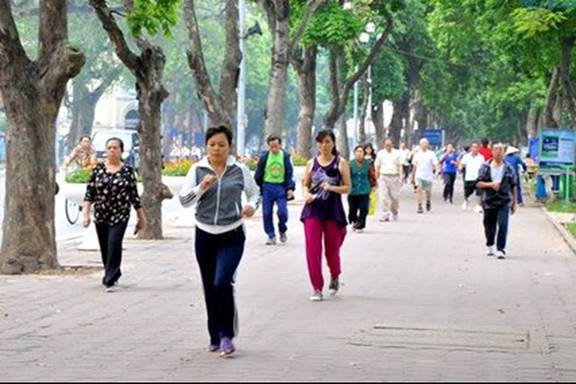person: (175, 121, 265, 364), (79, 129, 153, 297), (298, 125, 355, 310), (470, 135, 522, 264), (252, 132, 298, 253), (345, 140, 381, 239), (372, 134, 408, 226)
